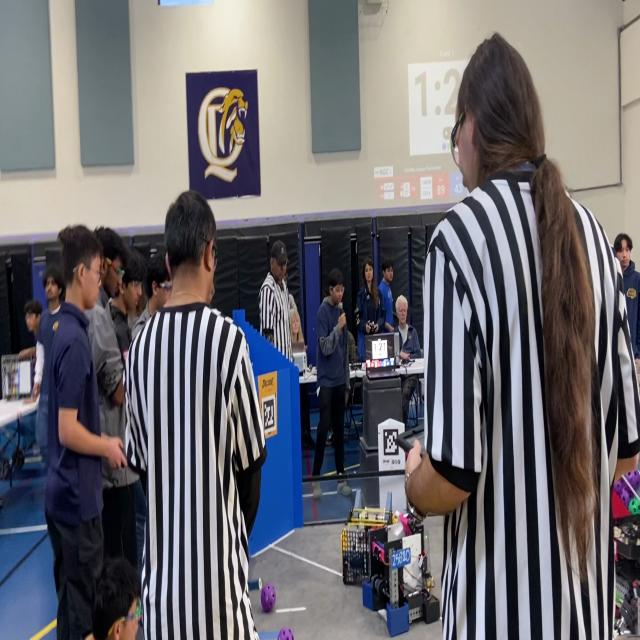artifact_purple: (261, 584, 275, 612), (620, 486, 632, 507), (629, 470, 639, 491), (614, 480, 625, 496), (629, 497, 639, 514), (278, 628, 293, 639), (623, 473, 632, 486)
